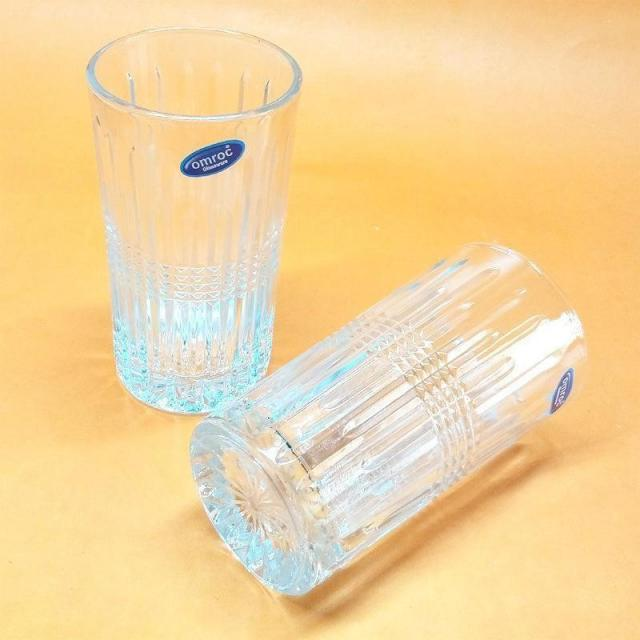glass-normal: (188, 240, 586, 597), (83, 25, 304, 414)
